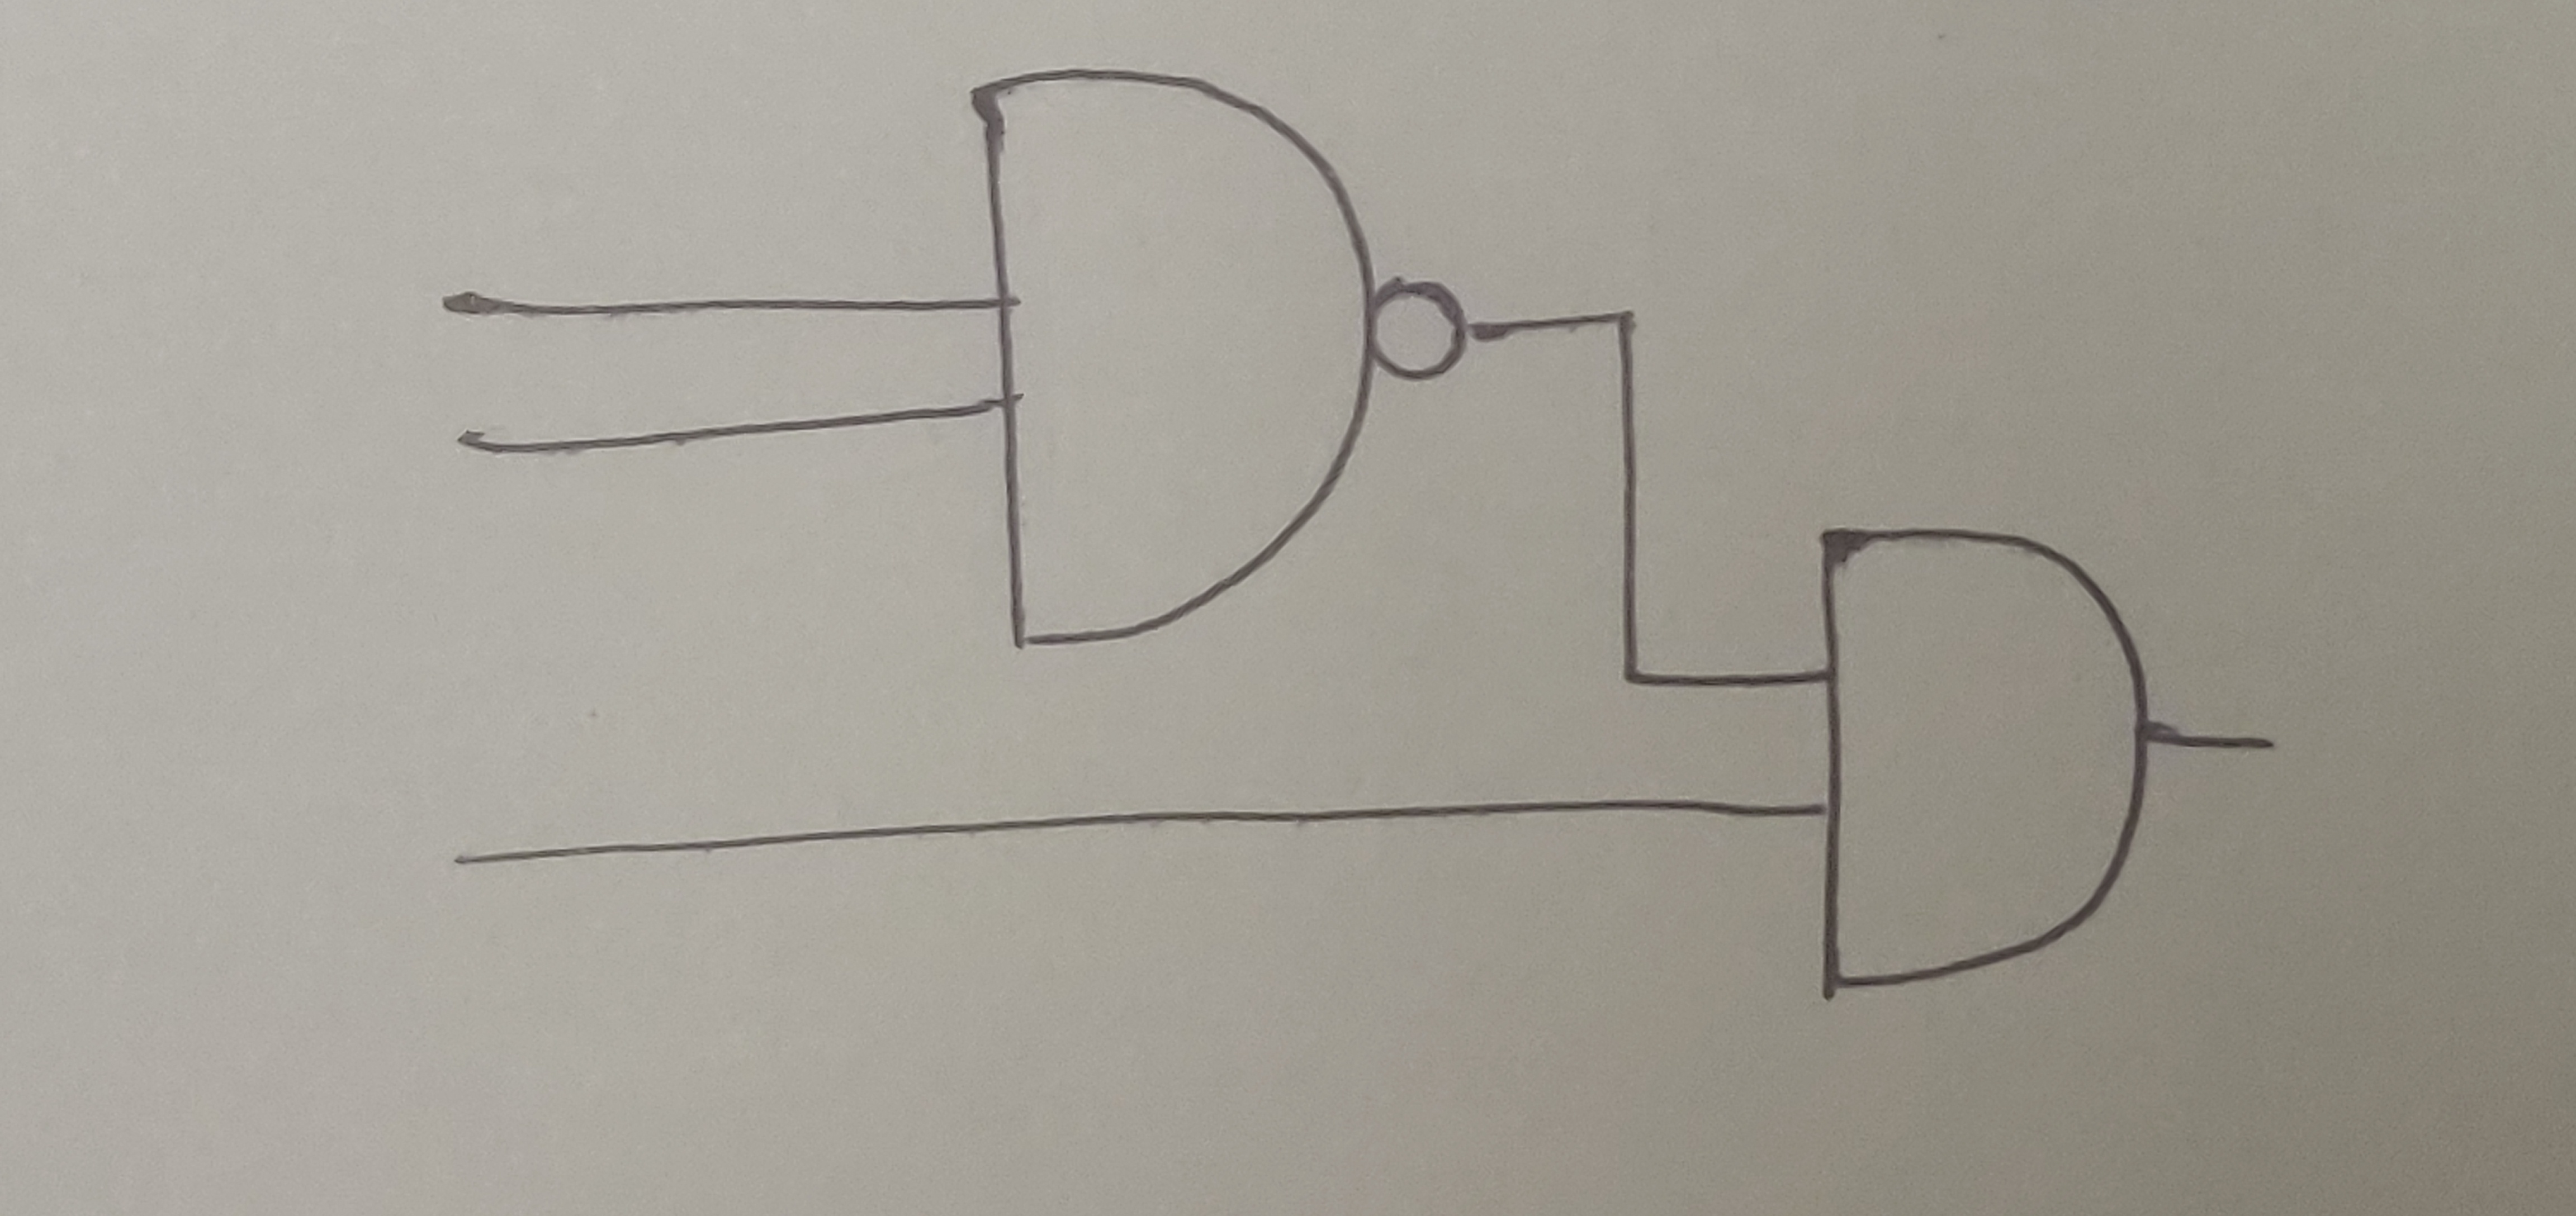and: (966, 69, 1383, 651), (1810, 519, 2152, 1006)
not: (1367, 279, 1475, 388)
